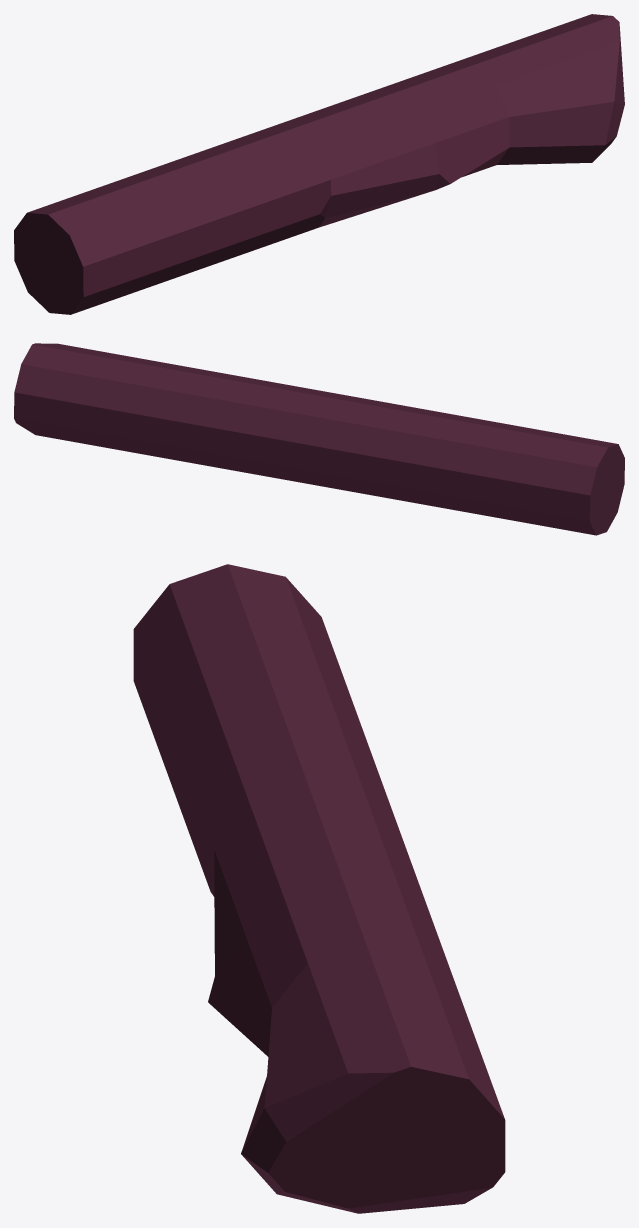
Rendered from trunk_002_grp.fbx.
3 renders of one model, top to bottom at view 1: azimuth 30°, elevation 25°; view 2: azimuth 150°, elevation 25°; view 3: azimuth 270°, elevation 25°, orthographic. The views are drawn at different scales.
Parts seen in each view (by area): view 1: trunk_002_grp; view 2: trunk_002_grp; view 3: trunk_002_grp.
Part boxes in pixels (left/top/right/bottom): trunk_002_grp: left=14, top=14, right=624, bottom=314; trunk_002_grp: left=14, top=343, right=624, bottom=535; trunk_002_grp: left=133, top=564, right=505, bottom=1213.
Bounding box in the file's own units: 601 × 100 × 180.
